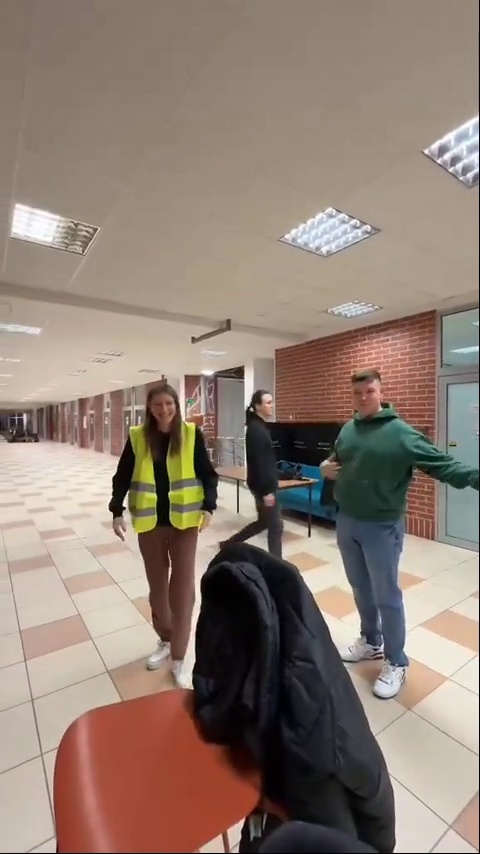no vest: (333, 366, 458, 697), (240, 387, 304, 562)
vest: (104, 376, 219, 685)
